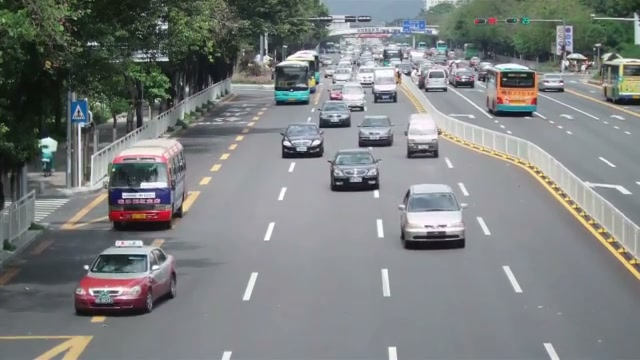bus: (107, 137, 187, 230), (484, 63, 539, 116), (601, 57, 640, 104), (273, 61, 312, 104), (287, 50, 320, 87)
car: (73, 242, 178, 316), (397, 183, 468, 249), (327, 148, 381, 191), (280, 122, 325, 158), (405, 114, 440, 158), (357, 115, 395, 147), (319, 101, 352, 128), (342, 83, 367, 111), (451, 68, 476, 88), (540, 75, 565, 92)
truck: (372, 67, 398, 102), (422, 68, 448, 92)
